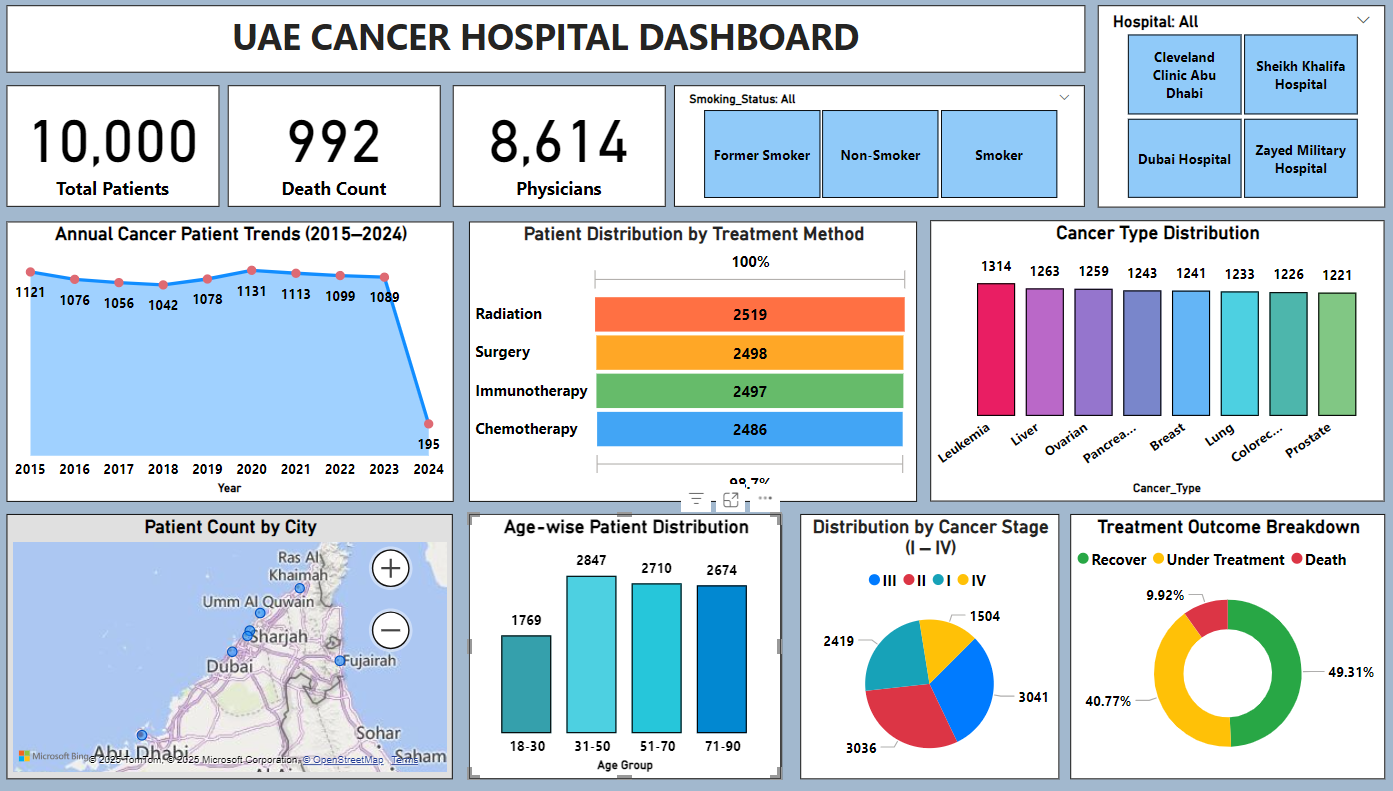

The dashboard page shown, as its layout file describes it:
{"tool":"powerbi","page":{"name":"Page 1","canvas":[1280,720],"ordinal":0},"visuals":[{"type":"card","fields":{"Values":["Cancer Dataset UAE.Patient_ID"]},"box":[11.2,82.3,192,109.7],"z":0},{"type":"card","fields":{"Values":["Cancer Dataset UAE.Is_Dead"]},"box":[210.7,82.3,192,109.7],"z":1000},{"type":"areaChart","title":"Annual Cancer Patient Trends (2015–2024)","fields":{"Category":["Cancer Dataset UAE.Diagnosis_Date.Variation.Date Hierarchy.Year"],"Y":["Cancer Dataset UAE.Patient_ID"]},"box":[11.2,205.3,403,252.5],"z":2000},{"type":"map","title":"Patient Count by City","fields":{"Category":["Cancer Dataset UAE.Emirate"],"Size":["Cancer Dataset UAE.Patient_ID"]},"box":[11.2,468.8,402.7,239.4],"z":3000},{"type":"funnel","title":"Patient Distribution by Treatment Method","fields":{"Category":["Cancer Dataset UAE.Treatment_Type"],"Y":["Cancer Dataset UAE.Patient_ID"]},"box":[427.9,205.3,404.3,252.5],"z":4000},{"type":"card","fields":{"Values":["Cancer Dataset UAE.Primary_Physician"]},"box":[413.9,82.3,192,109.7],"z":5000},{"type":"lineStackedColumnComboChart","title":"Cancer Type Distribution","fields":{"Category":["Cancer Dataset UAE.Cancer_Type"],"Y":["Cancer Dataset UAE.Patient_ID"]},"box":[844.6,204,409.3,253.8],"z":6000},{"type":"pieChart","title":"Distribution by Cancer Stage (I – IV)","fields":{"Y":["Cancer Dataset UAE.Patient_ID"],"Category":["Cancer Dataset UAE.Cancer_Stage"]},"box":[726.5,469,233.9,238.8],"z":7000},{"type":"slicer","fields":{"Values":["Cancer Dataset UAE.Hospital"]},"box":[994.9,10,259.3,182],"z":8000},{"type":"donutChart","title":"Treatment Outcome Breakdown","fields":{"Y":["Cancer Dataset UAE.Patient_ID"],"Category":["Cancer Dataset UAE.Outcome"]},"box":[970,468.8,284.3,239.4],"z":9000},{"type":"columnChart","title":"Age-wise Patient Distribution","fields":{"Category":["Cancer Dataset UAE.Age Group"],"Y":["Cancer Dataset UAE.Patient_ID"]},"box":[427.9,469,282.4,238.8],"z":10000},{"type":"textbox","box":[11.2,10,972.5,61.1],"z":11000},{"type":"slicer","fields":{"Values":["Cancer Dataset UAE.Smoking_Status"]},"box":[613.4,82.3,370.3,109.7],"z":12000}]}

Visuals, with their boxes in screenshot pixels (x1, y1, x2, y2), scaled from the page's 1280x720 canvas onto the 1393x791 screenshot:
card - Cancer Dataset UAE.Patient_ID: (left=12, top=90, right=221, bottom=211)
card - Cancer Dataset UAE.Is_Dead: (left=229, top=90, right=438, bottom=211)
"Annual Cancer Patient Trends (2015–2024)" areaChart: (left=12, top=226, right=451, bottom=503)
"Patient Count by City" map: (left=12, top=515, right=450, bottom=778)
"Patient Distribution by Treatment Method" funnel: (left=466, top=226, right=906, bottom=503)
card - Cancer Dataset UAE.Primary_Physician: (left=450, top=90, right=659, bottom=211)
"Cancer Type Distribution" lineStackedColumnComboChart: (left=919, top=224, right=1365, bottom=503)
"Distribution by Cancer Stage (I – IV)" pieChart: (left=791, top=515, right=1045, bottom=778)
slicer - Cancer Dataset UAE.Hospital: (left=1083, top=11, right=1365, bottom=211)
"Treatment Outcome Breakdown" donutChart: (left=1056, top=515, right=1365, bottom=778)
"Age-wise Patient Distribution" columnChart: (left=466, top=515, right=773, bottom=778)
textbox: (left=12, top=11, right=1071, bottom=78)
slicer - Cancer Dataset UAE.Smoking_Status: (left=668, top=90, right=1071, bottom=211)
